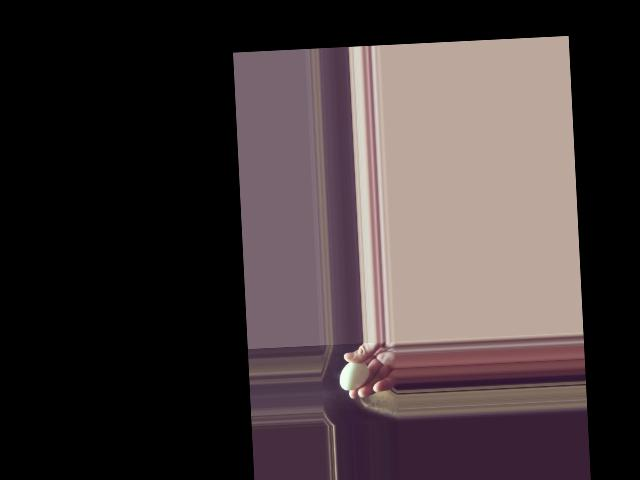egg: (339, 360, 369, 390)
